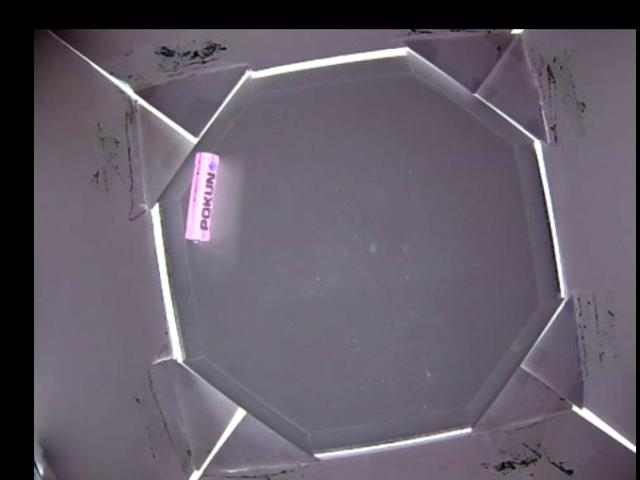Battery: (184, 150, 220, 245)
